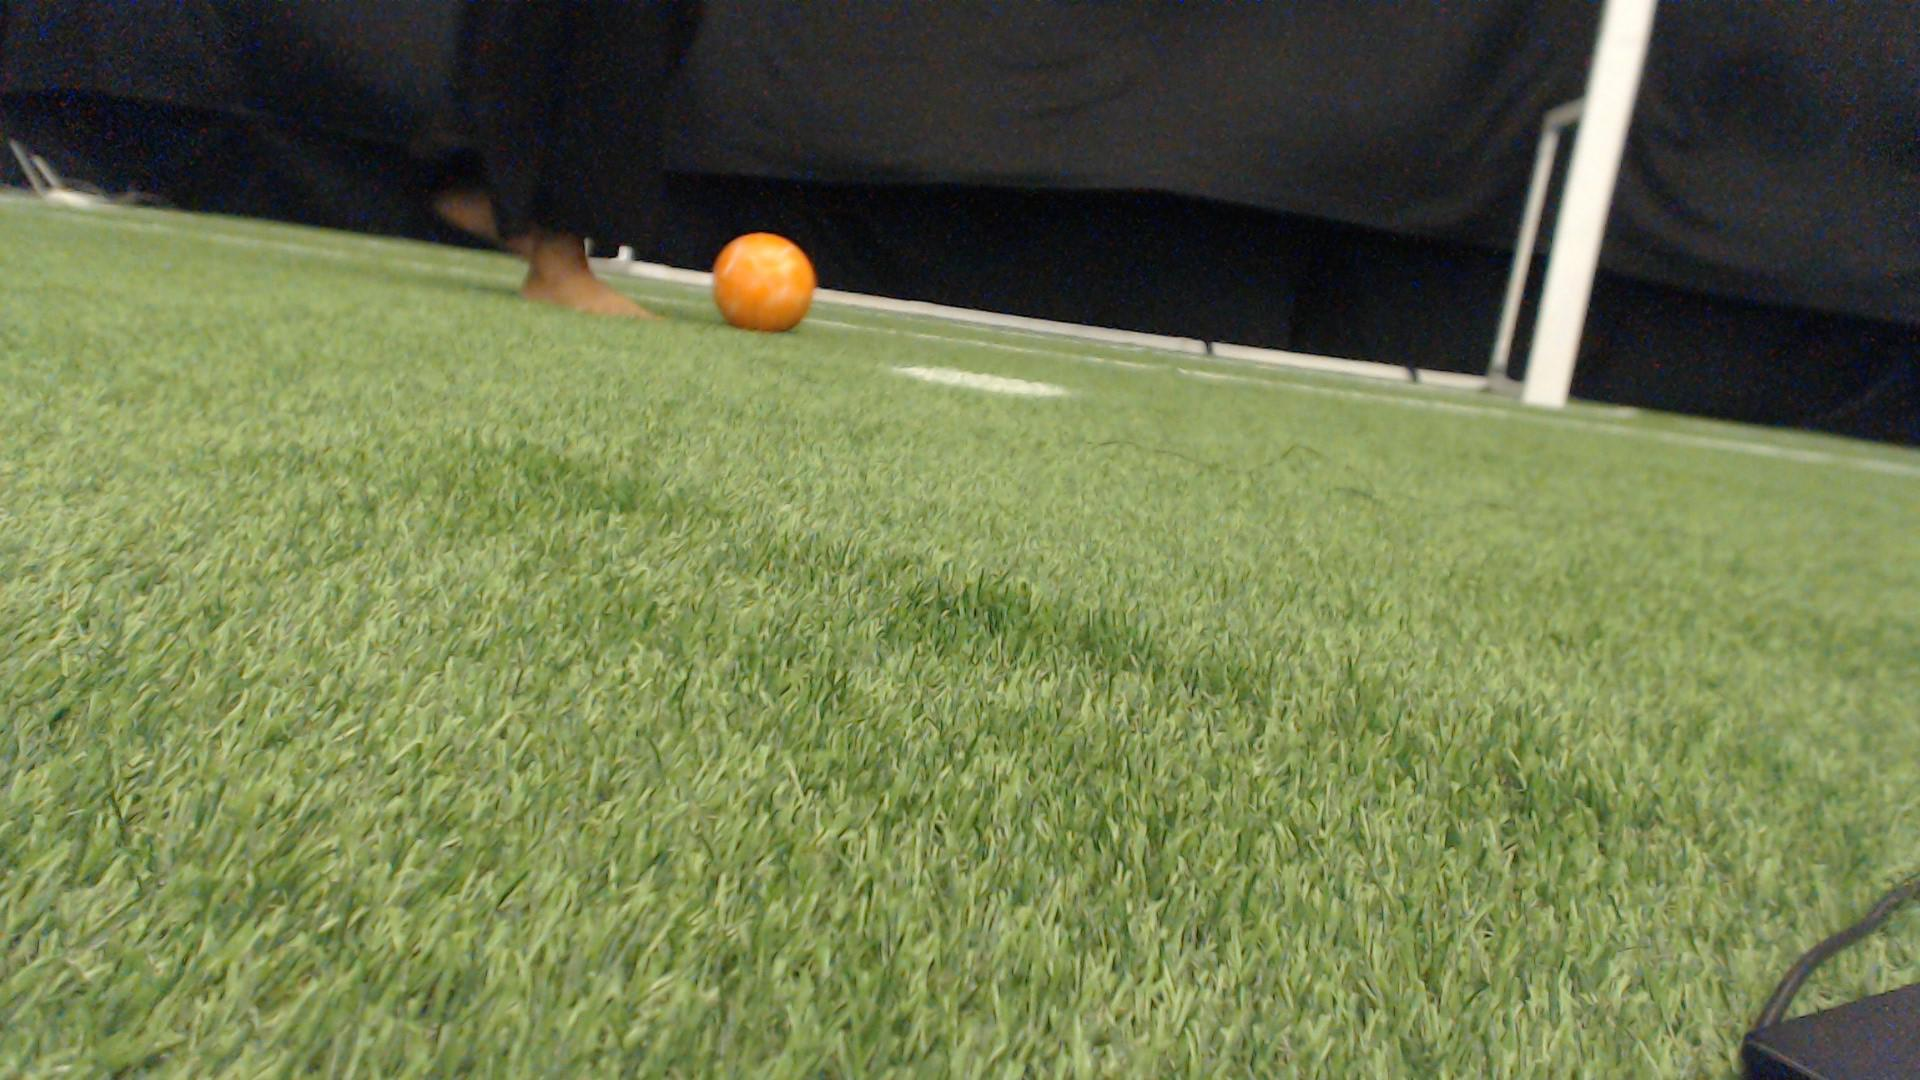bola: (703, 220, 823, 345)
